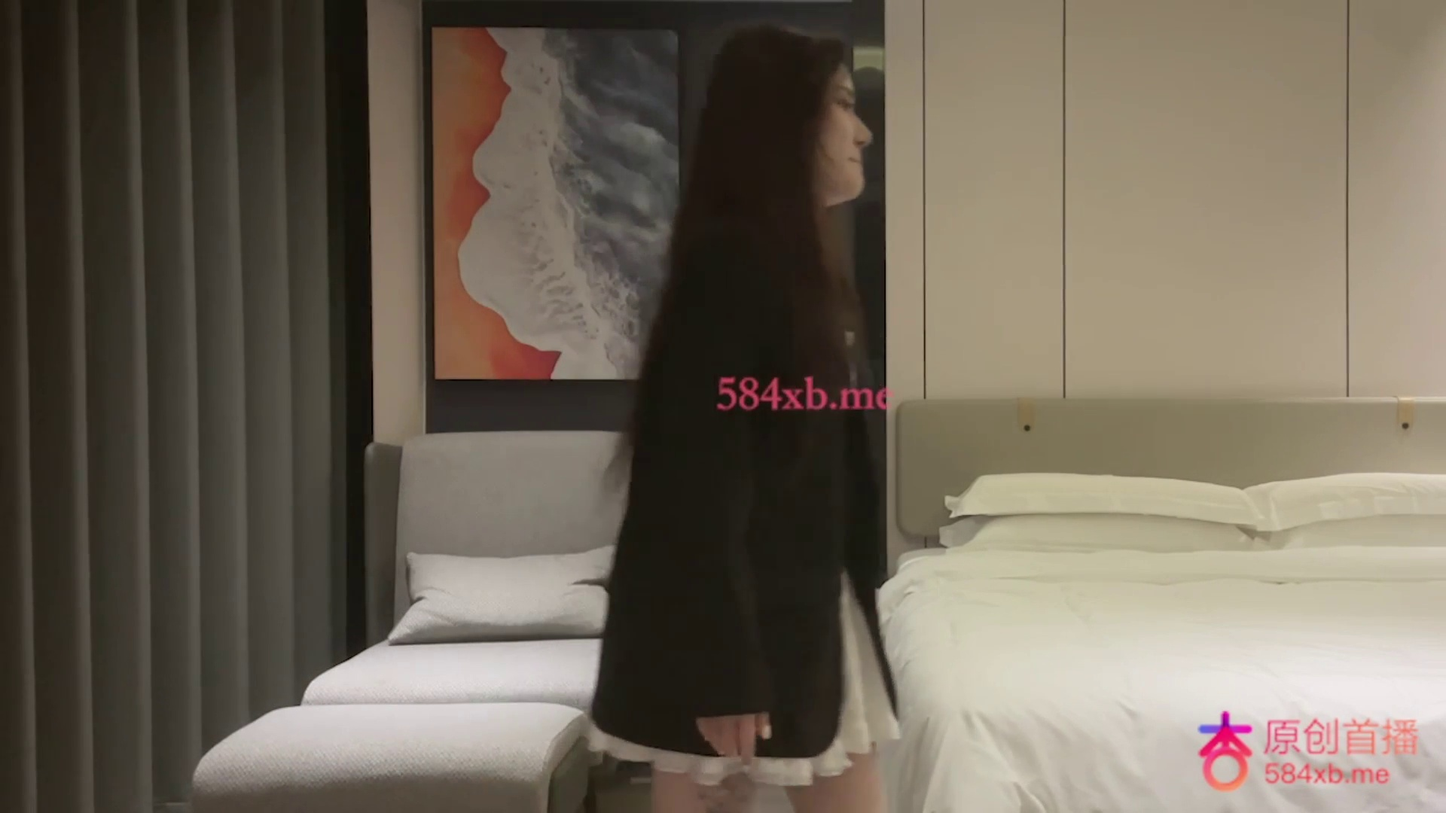stand: (587, 23, 898, 813)
